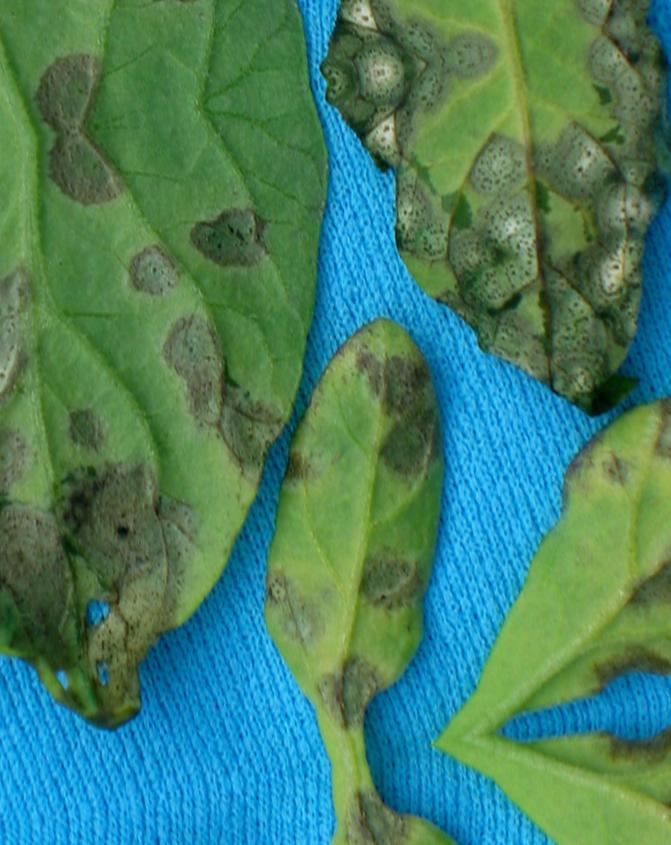Tomato Septoria leaf spot: (0, 84, 436, 772), (322, 14, 671, 478), (206, 296, 503, 748), (396, 388, 671, 742)
